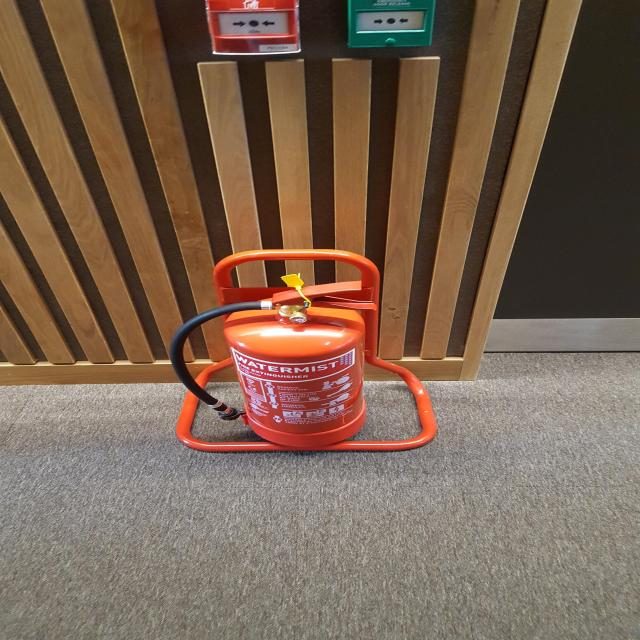Fire-Extinguisher: (220, 277, 372, 456)
